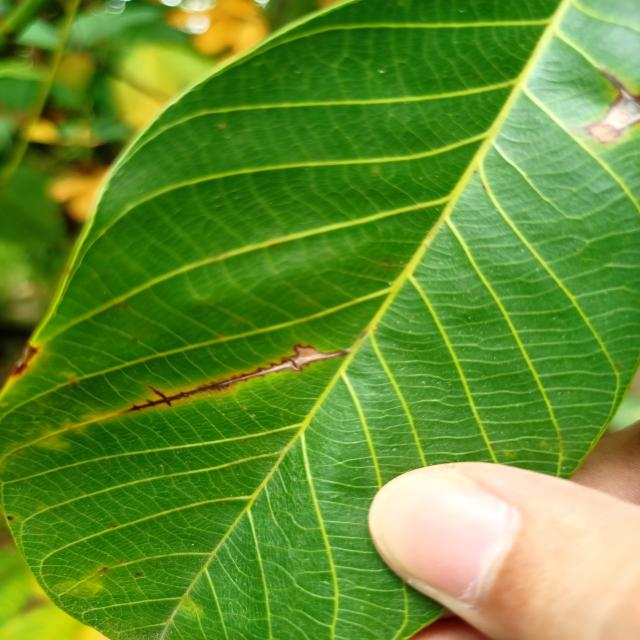Corynespora: (123, 343, 350, 412)
Leaf-Blight: (586, 91, 640, 141)
